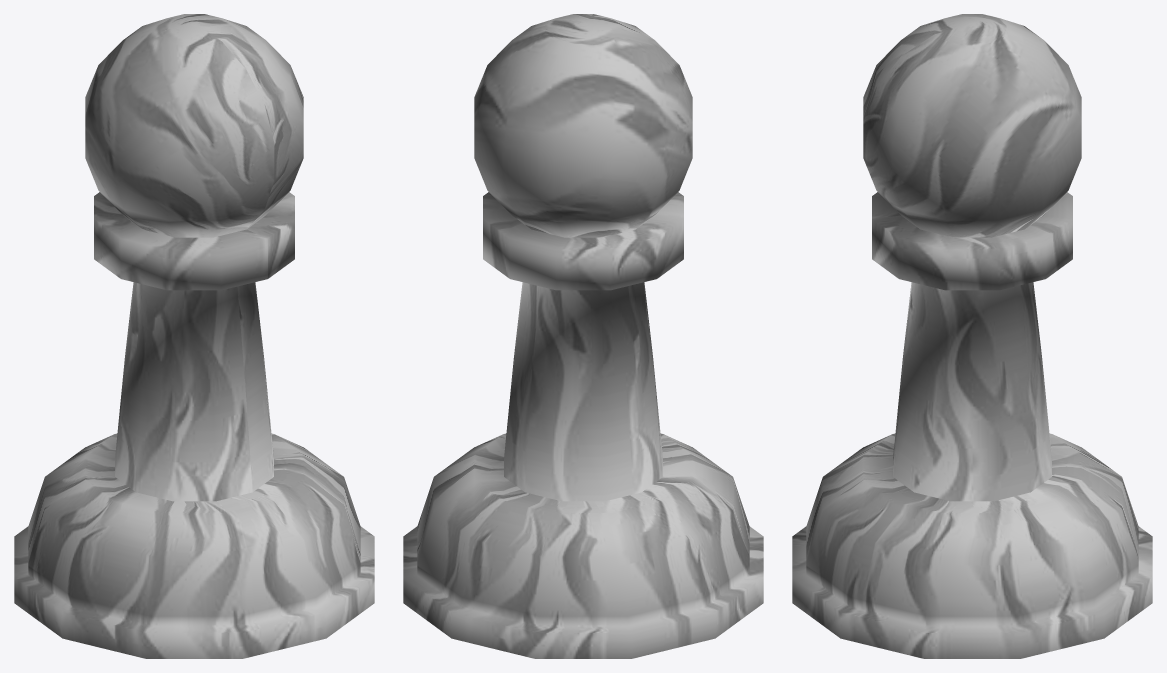
Rendered from Pawn.glb.
3 renders of one model, left to right at view 1: azimuth 30°, elevation 25°; view 2: azimuth 150°, elevation 25°; view 3: azimuth 270°, elevation 25°, orthographic.
Visible parts, largest first — view 1: Pawn; view 2: Pawn; view 3: Pawn.
Boxes of the visible parts, x1=… form: Pawn: x1=14, y1=14, x2=374, y2=658; Pawn: x1=403, y1=14, x2=763, y2=658; Pawn: x1=792, y1=14, x2=1152, y2=658.
Bounding box in the file's own units: 0.1256 × 0.215 × 0.1256.
1 material, 1 textured.
